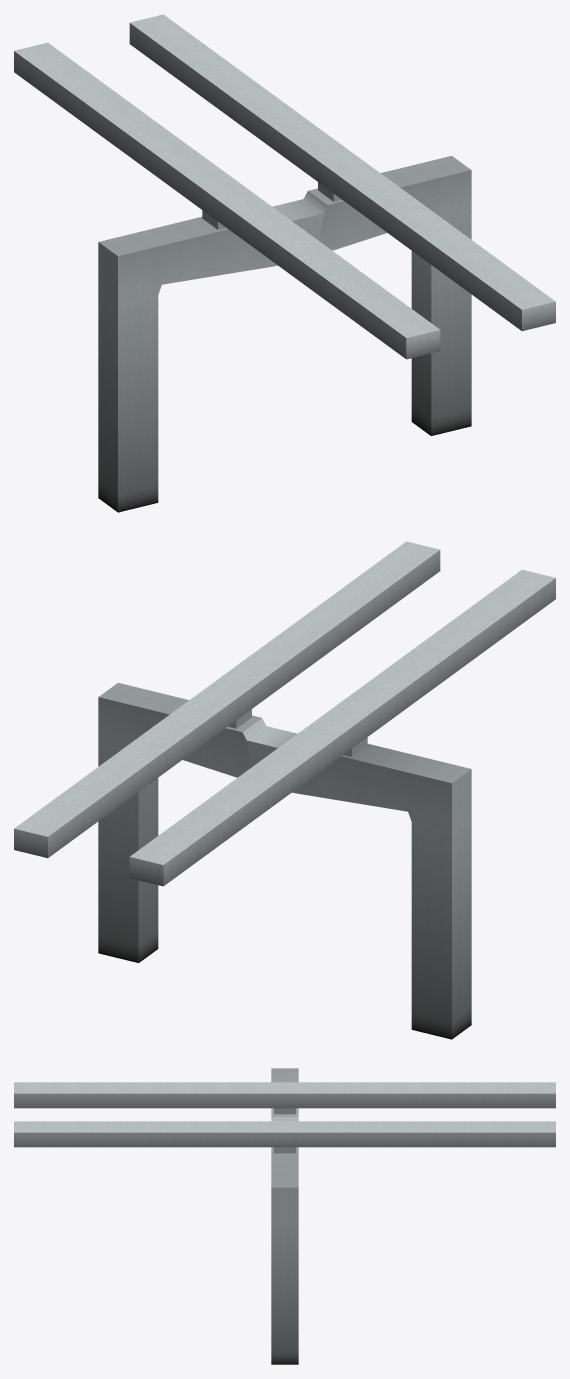
Rendered from MONORAIL2.glb.
3 views of the same model, one above another, from view 1: azimuth 30°, elevation 25°; view 2: azimuth 150°, elevation 25°; view 3: azimuth 270°, elevation 25° (orthographic). The views are drawn at different scales.
Visible parts, largest first — view 1: obj8, V1; view 2: obj8, V1; view 3: obj8, V1.
Boxes of the visible parts, left/top/right/bottom form: obj8: left=14, top=14, right=555, bottom=359; V1: left=98, top=156, right=471, bottom=512; obj8: left=14, top=541, right=555, bottom=886; V1: left=98, top=683, right=471, bottom=1039; obj8: left=14, top=1082, right=555, bottom=1147; V1: left=271, top=1068, right=298, bottom=1364.
Bounding box in the file's own units: 52 × 40.21 × 100.
2 materials, 2 textured.
